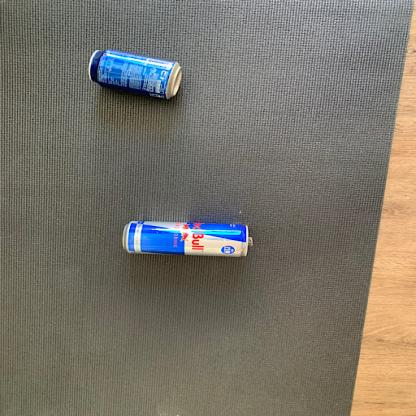trash: (87, 48, 187, 101), (122, 220, 254, 259)
